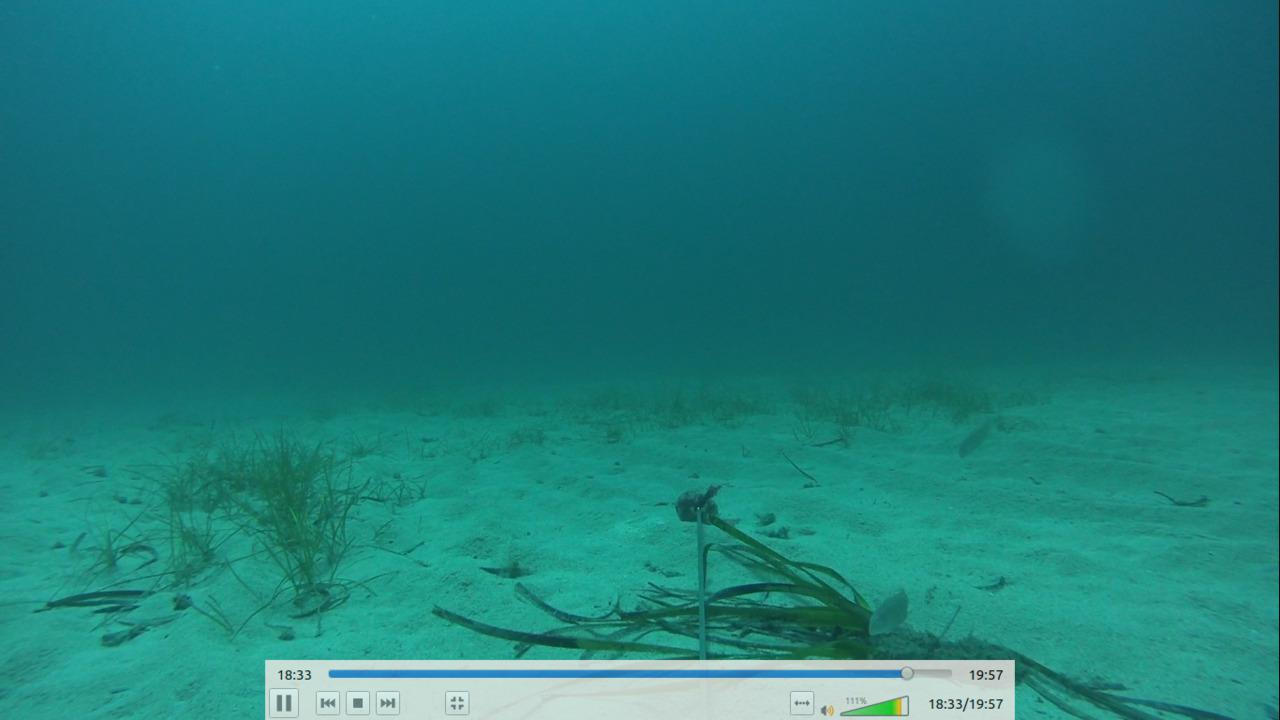raor: (865, 585, 913, 632), (956, 419, 990, 458)
